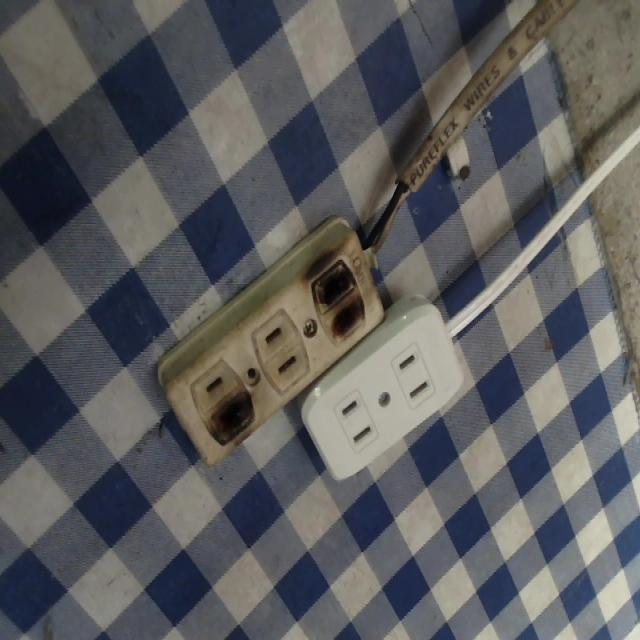-: (306, 255, 375, 341), (204, 385, 263, 456)
